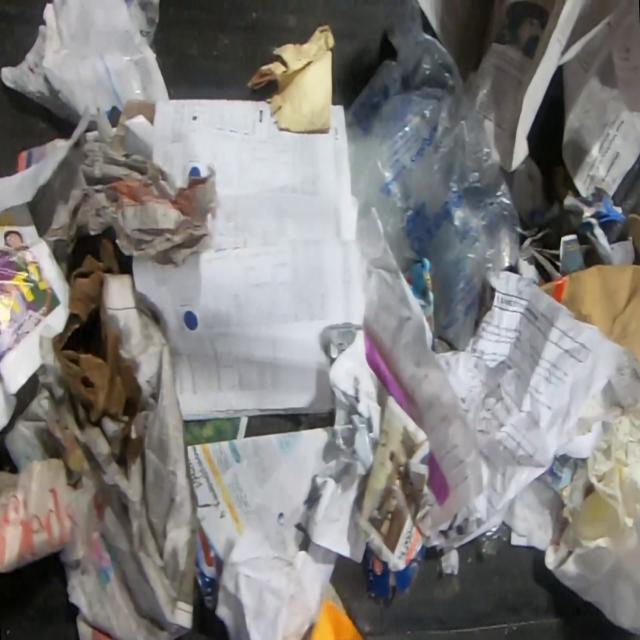cardboard: (47, 221, 147, 474), (535, 214, 640, 373), (562, 184, 636, 266), (365, 545, 429, 599)
soft_plastic: (345, 0, 522, 353)
